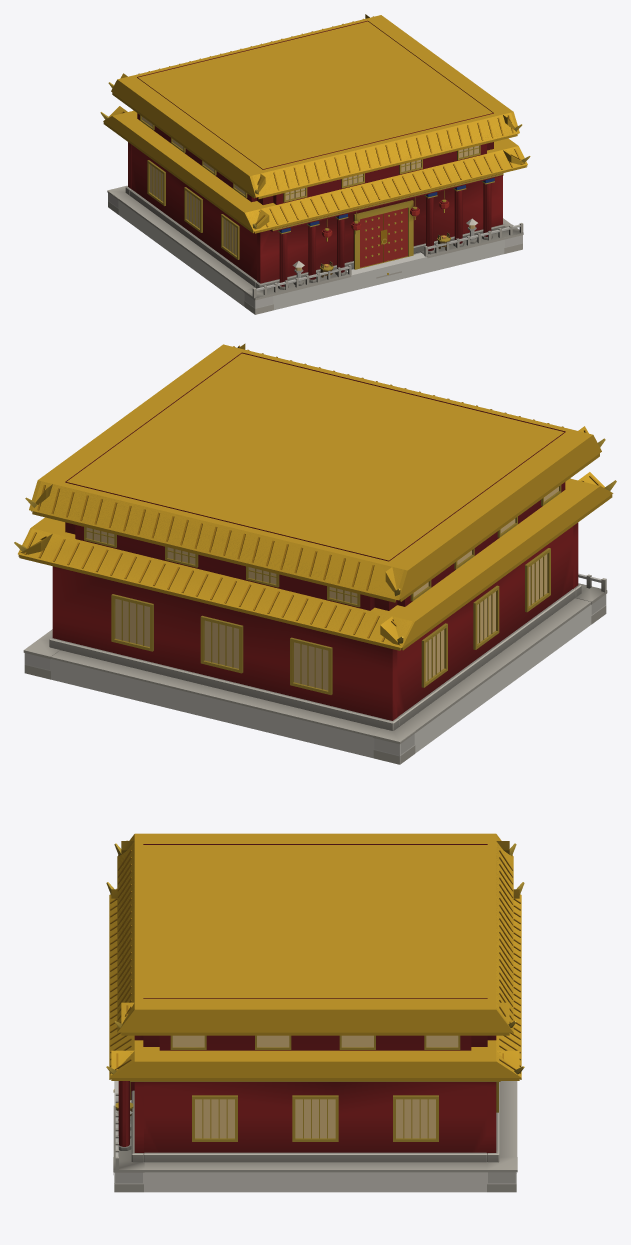
The model's file is ThreeTailEmperorFloor.fbx.
3 renders of one model, top to bottom at view 1: azimuth 30°, elevation 25°; view 2: azimuth 150°, elevation 25°; view 3: azimuth 270°, elevation 25°, orthographic. The views are drawn at different scales.
Visible parts, largest first — view 1: EP_S_All, EP_F_Rings, EP_F_Smooth, EP_F_Glass, EP_F_Props; view 2: EP_S_All, EP_F_Rings, EP_F_Smooth, EP_F_Glass, EP_F_Quiet; view 3: EP_S_All, EP_F_Rings, EP_F_Smooth, EP_F_Glass, EP_F_Quiet.
Boxes of the visible parts, box(x1,y1,x2,y2) form: EP_S_All: box(103, 15, 527, 314); EP_F_Rings: box(108, 14, 522, 307); EP_F_Smooth: box(100, 16, 530, 314); EP_F_Glass: box(142, 117, 478, 270); EP_F_Props: box(278, 178, 494, 289); EP_S_All: box(18, 344, 613, 764); EP_F_Rings: box(19, 343, 605, 755); EP_F_Smooth: box(14, 345, 616, 764); EP_F_Glass: box(86, 487, 558, 690); EP_F_Quiet: box(49, 584, 580, 726); EP_S_All: box(109, 833, 521, 1192); EP_F_Rings: box(109, 836, 521, 1183); EP_F_Smooth: box(106, 840, 524, 1192); EP_F_Glass: box(172, 1035, 458, 1138); EP_F_Quiet: box(132, 1090, 498, 1154).
Bounding box in the file's own units: 60 × 20 × 60.
